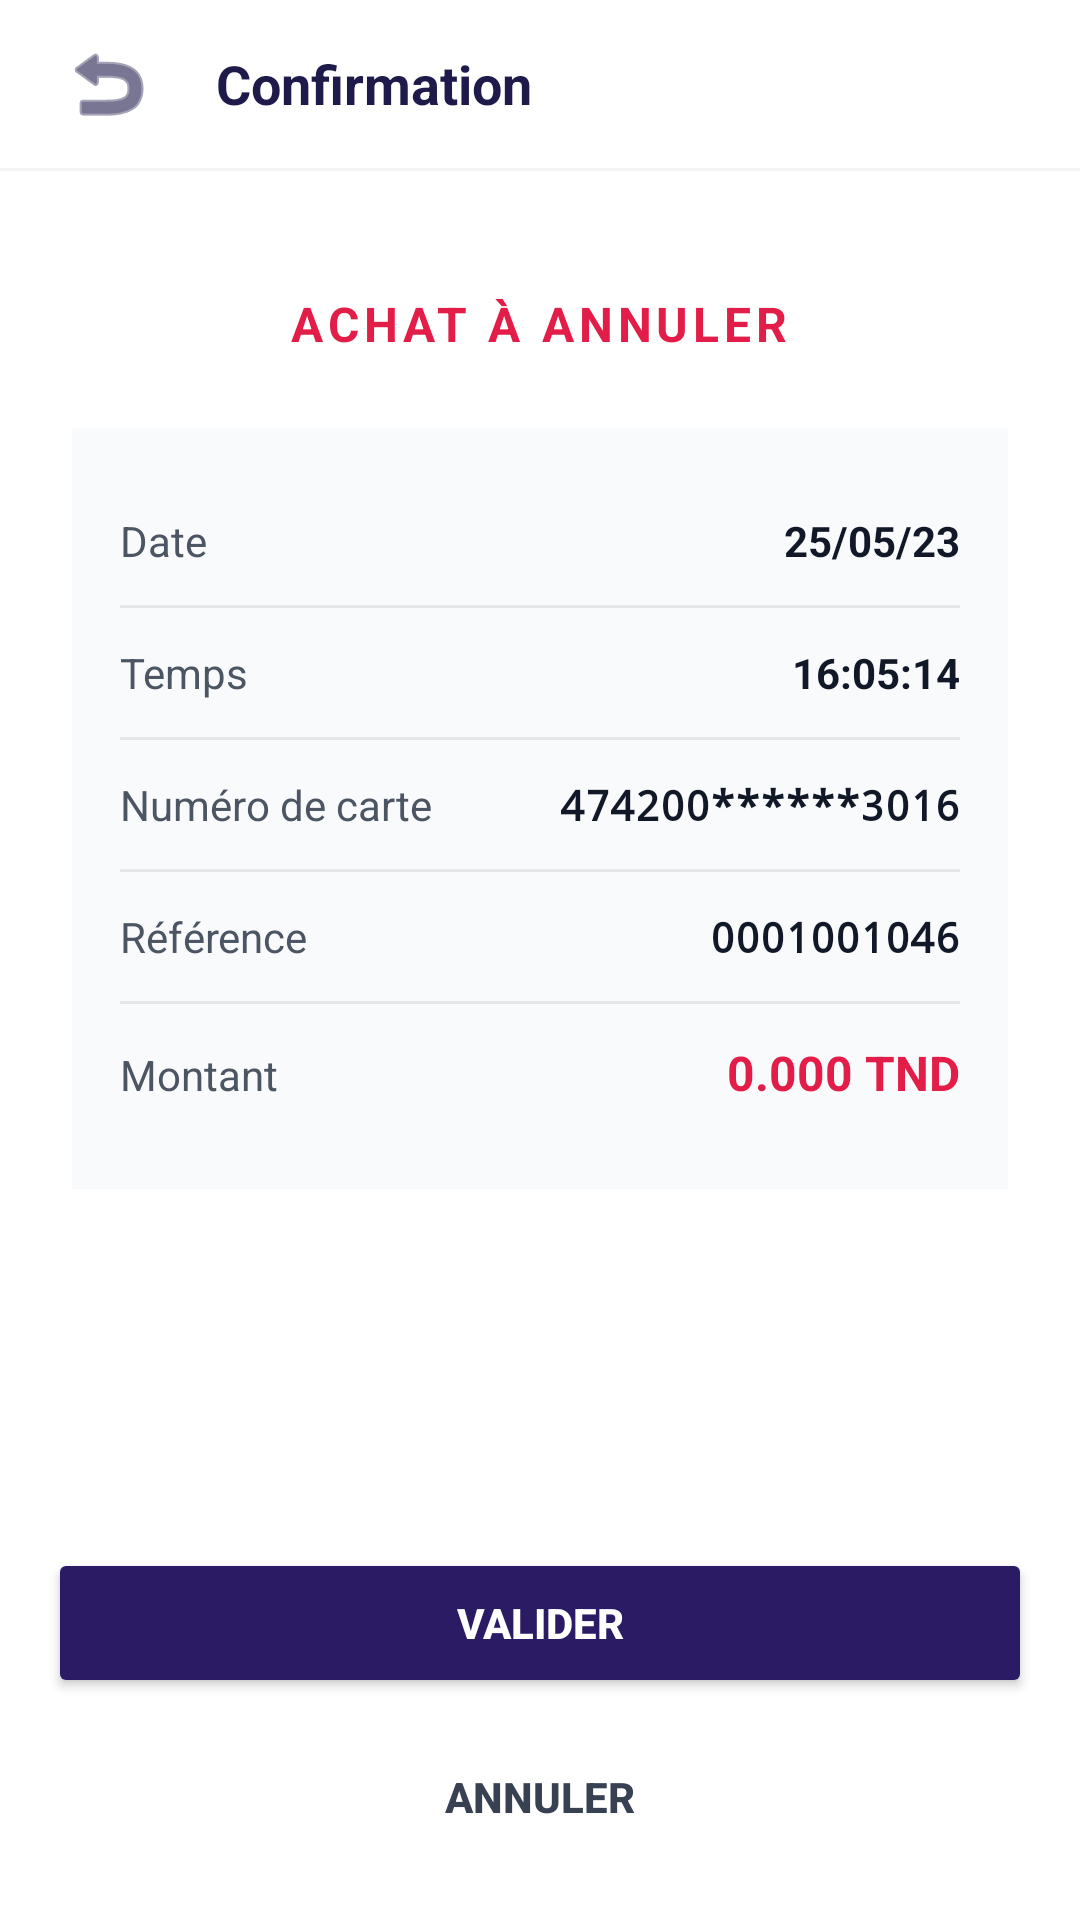

Where to tap for icons on this 1080*1920 app screen, as (x=x, y=y):
Retour: (x=109, y=84)
